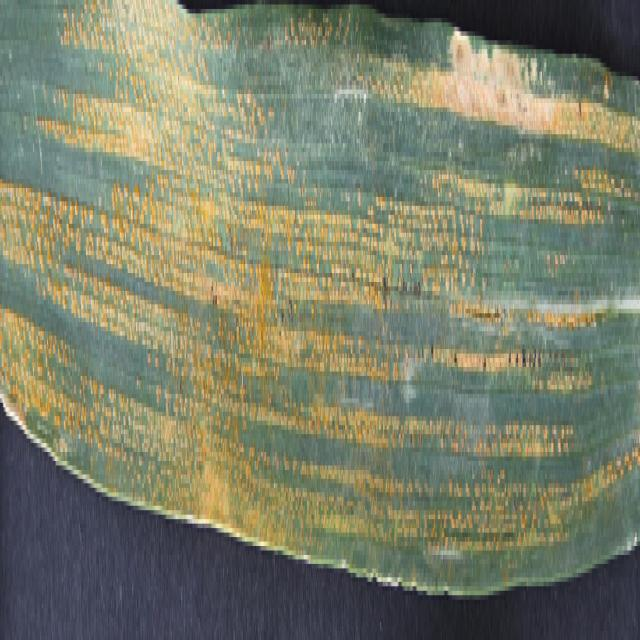leaf rust: (1, 4, 637, 573)
